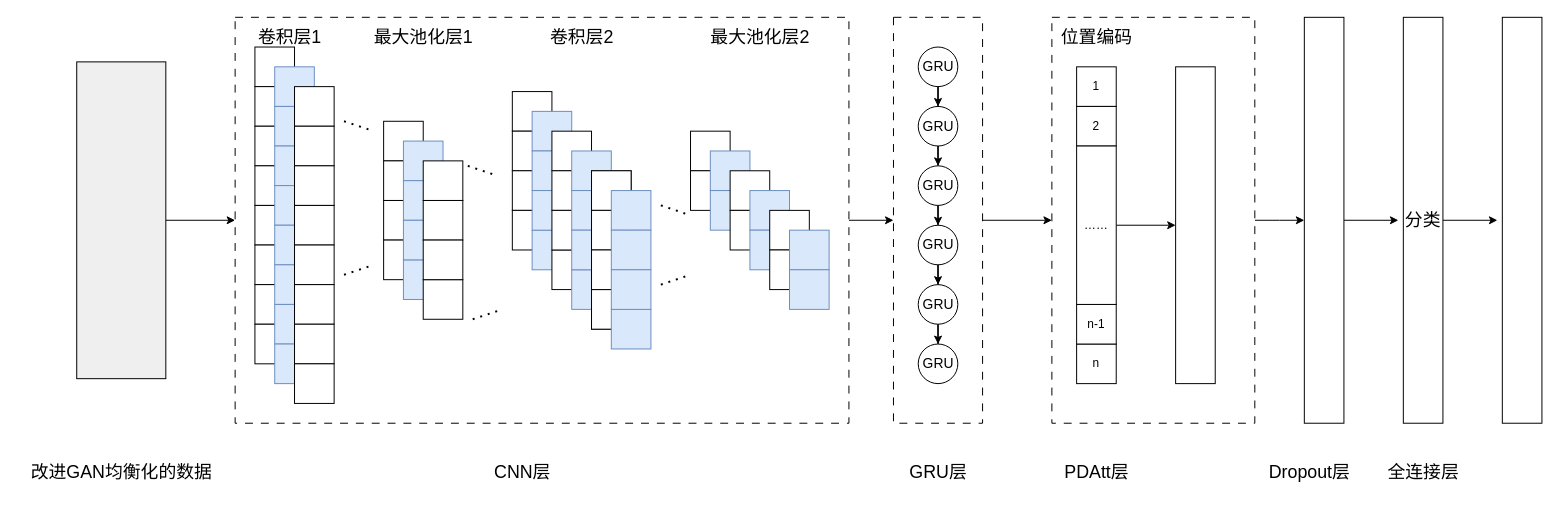
This 1559x510 diagram has some shape labels left out. Here are the shapes that lost their labels. From the top down, the centre of each, then its label:
[1195,225]: 动态权重生成
[1323,219]: 随机丢弃部分神经元
[1521,219]: 风机叶片结冰诊断结果输出
